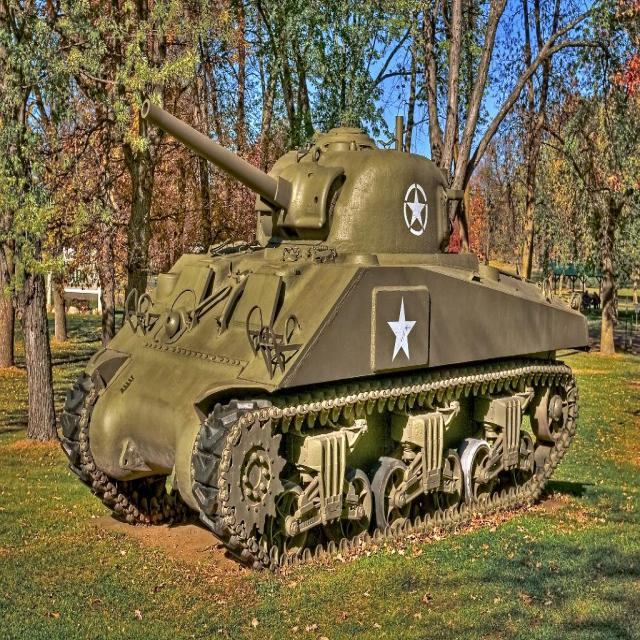tank: (59, 96, 590, 576)
